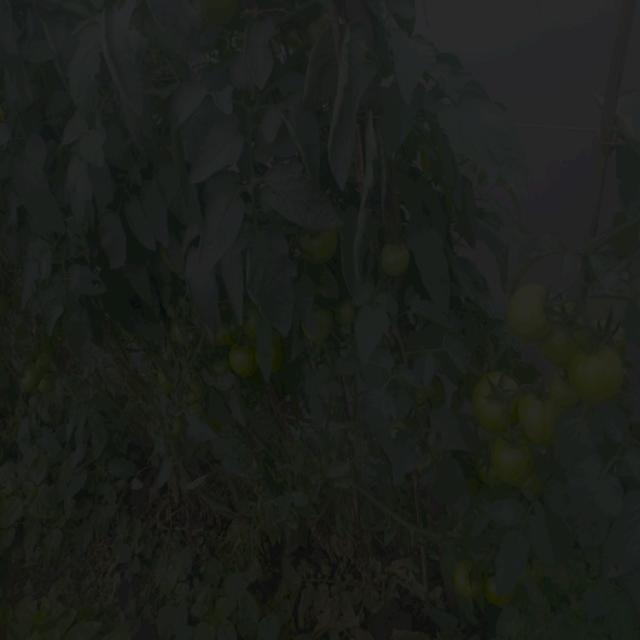tomato: (563, 327, 629, 408), (507, 270, 560, 347), (480, 429, 538, 486), (469, 361, 520, 421), (543, 296, 585, 351), (519, 393, 557, 443), (291, 232, 342, 269), (597, 316, 636, 355), (229, 341, 265, 377), (12, 361, 49, 392), (455, 552, 482, 594), (375, 243, 410, 274), (310, 304, 337, 343), (418, 380, 451, 411), (261, 333, 285, 372), (337, 290, 362, 325), (485, 579, 511, 612), (239, 303, 262, 332), (35, 375, 61, 395), (169, 320, 180, 342)
